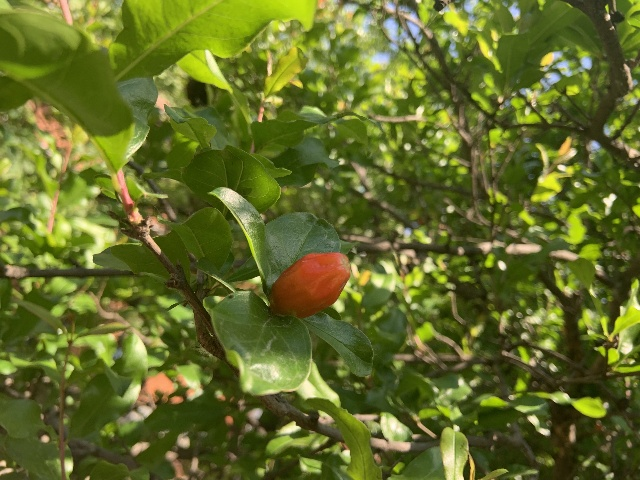bud: (270, 252, 350, 319)
